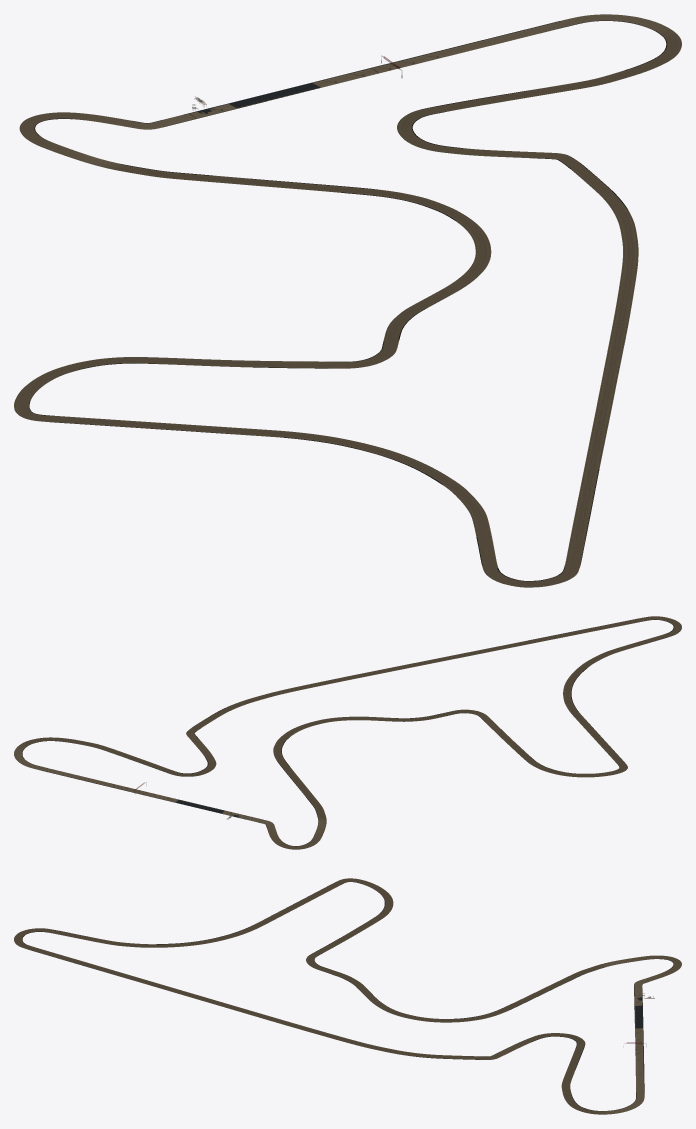
Rendered from track2.glb.
The picture shows the model from 3 angles, top to bottom: view 1: azimuth 30°, elevation 25°; view 2: azimuth 150°, elevation 25°; view 3: azimuth 270°, elevation 25°; orthographic projection. The views are drawn at different scales.
Parts seen in each view (by area): view 1: PistaArgentina2.001; view 2: PistaArgentina2.001; view 3: PistaArgentina2.001.
Boxes of the visible parts, x1,y1,x2,y2 form: PistaArgentina2.001: (14,14,681,587); PistaArgentina2.001: (14,616,681,849); PistaArgentina2.001: (14,878,681,1114).
Size of the model in its own units: 2320 by 28.55 by 2773.
2 materials, 2 textured.
